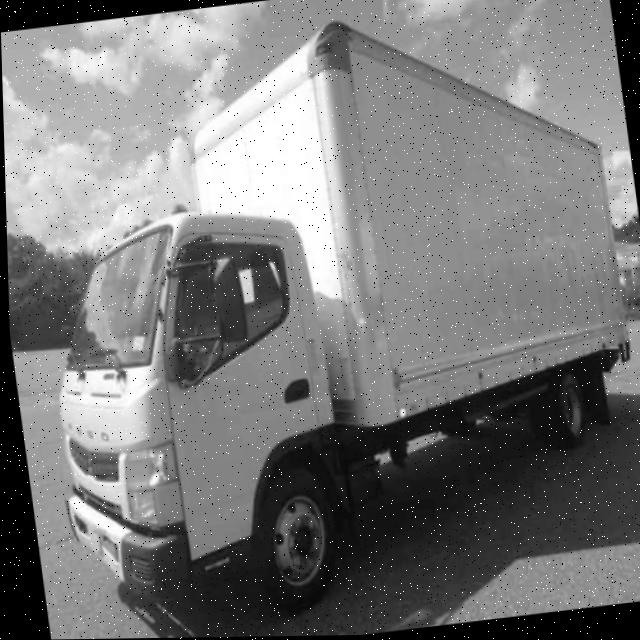truck: (13, 177, 391, 637)
